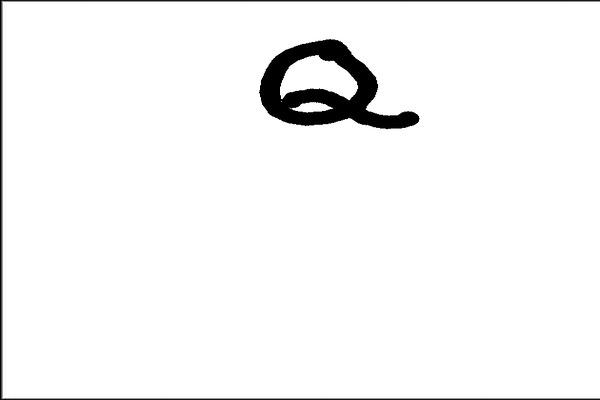Q: (251, 30, 410, 142)
